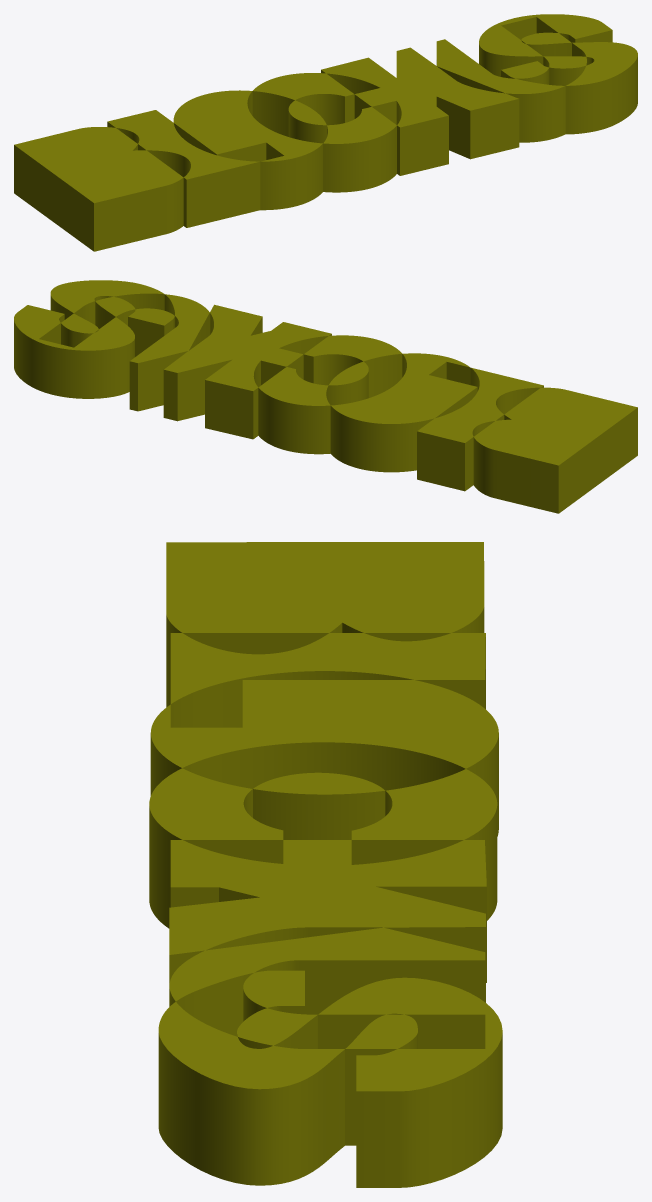
Rendered from blokus.fbx.
3 views of the same model, one above another, from view 1: azimuth 30°, elevation 25°; view 2: azimuth 150°, elevation 25°; view 3: azimuth 270°, elevation 25° (orthographic). The views are drawn at different scales.
Visible parts, largest first — view 1: path6; view 2: path6; view 3: path6.
Boxes of the visible parts, x1=… form: path6: x1=14, y1=14, x2=637, y2=251; path6: x1=14, y1=280, x2=637, y2=513; path6: x1=149, y1=542, x2=502, y2=1187.
Size of the model in its own units: 12.21 by 1 by 3.32.
